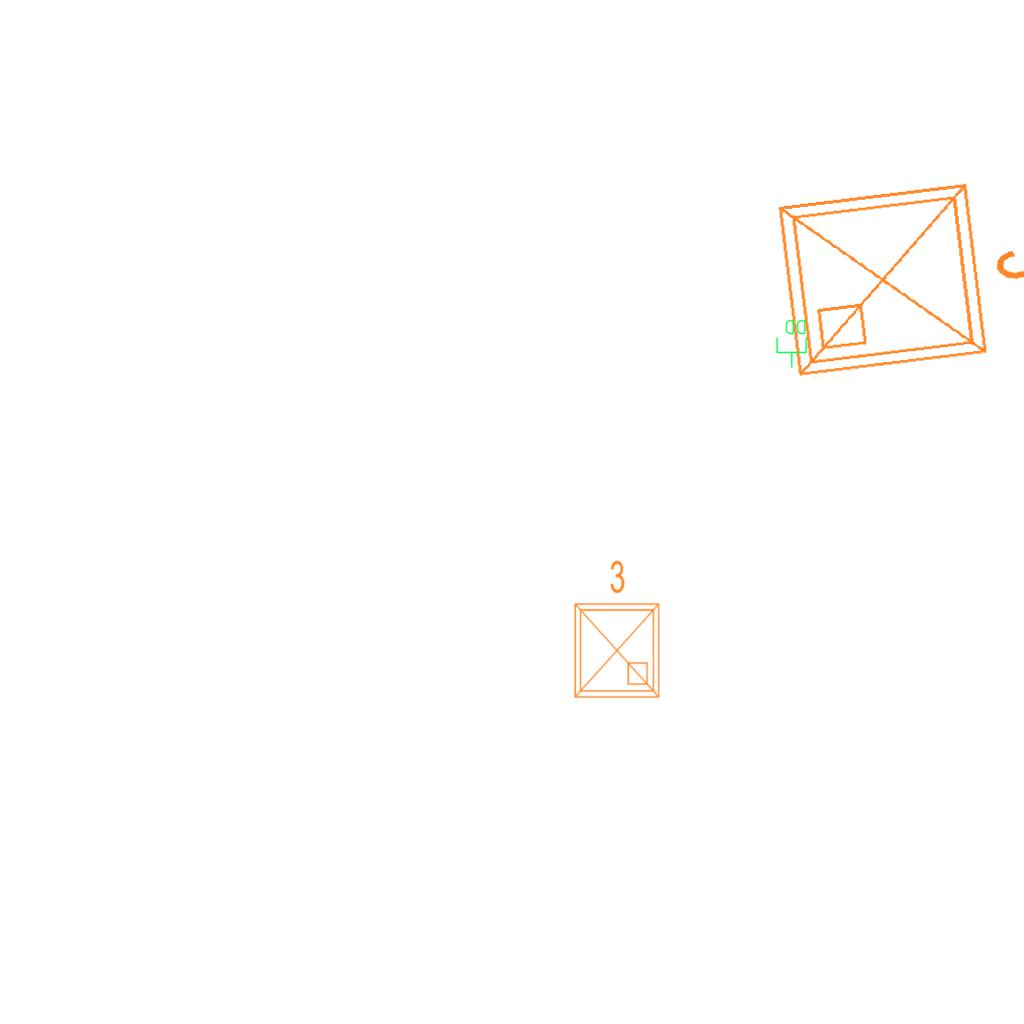Datenanschluss_zweifach: (775, 318, 809, 369)
Einbaudownlights_LED_Konferenzraeume: (761, 149, 1024, 393), (563, 555, 667, 705)
